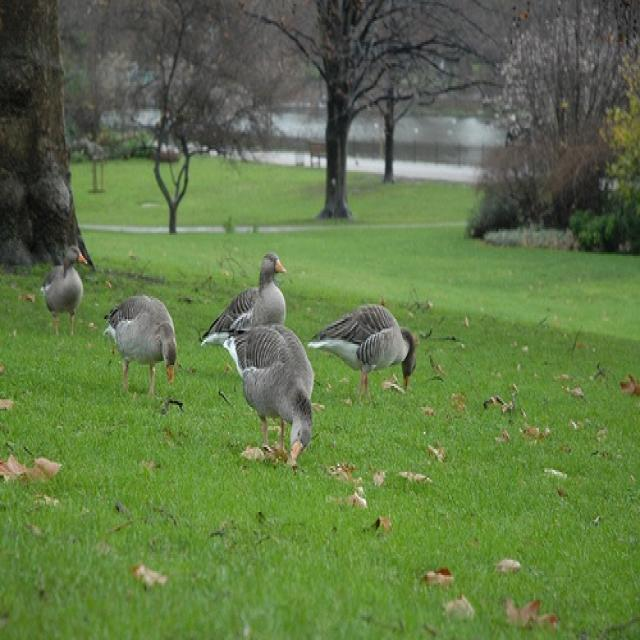bird: (201, 323, 317, 460), (308, 304, 414, 405), (204, 254, 286, 348), (104, 298, 175, 399), (43, 247, 91, 331)
